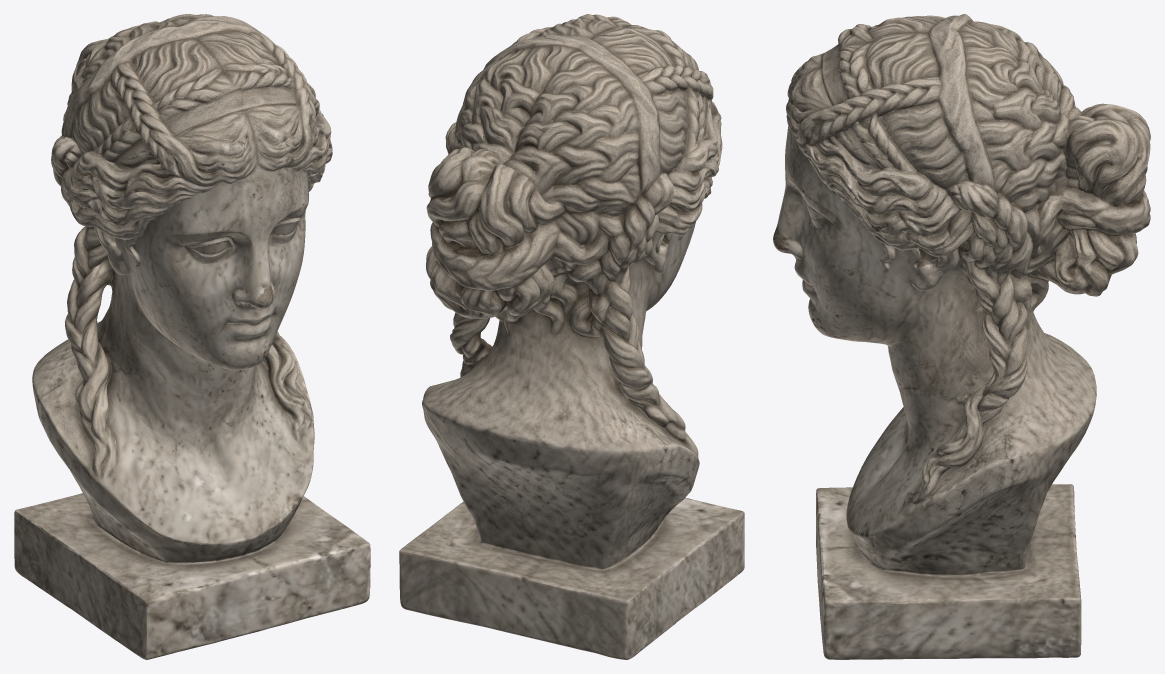
The model's file is bust.glb.
3 views of the same model, side by side, from view 1: azimuth 30°, elevation 25°; view 2: azimuth 150°, elevation 25°; view 3: azimuth 270°, elevation 25° (orthographic). The views are drawn at different scales.
Parts seen in each view (by area): view 1: Mesh_0; view 2: Mesh_0; view 3: Mesh_0.
Boxes of the visible parts, bbox=[...] form: Mesh_0: bbox=[14, 14, 370, 659]; Mesh_0: bbox=[399, 14, 744, 659]; Mesh_0: bbox=[773, 14, 1150, 659].
Size of the model in its own units: 0.8717 by 1.9 by 1.13.
1 material, 1 textured.
